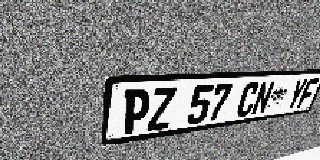5: (186, 85, 215, 125)
7: (206, 83, 233, 122)
C: (235, 82, 261, 118)
F: (296, 78, 320, 109)
N: (250, 81, 276, 116)
P: (121, 88, 152, 135)
Y: (284, 79, 308, 110)
Z: (147, 87, 177, 131)
